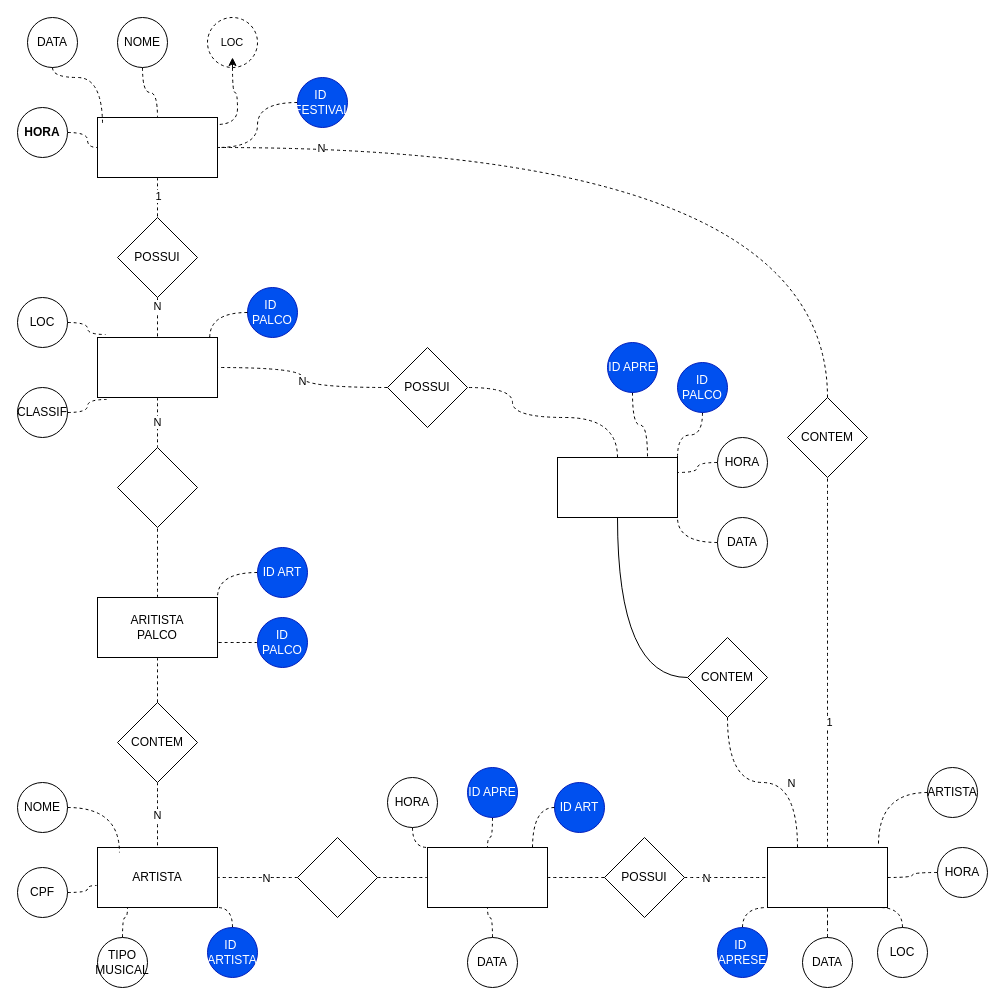
Image size: 1005x1005. Some labels were removed from this diagram. Each missing label, with the centre of its shape:
APRESENTAÇÃO PALCO: (x=617, y=487)
APRESENTAÇÕES: (x=827, y=877)
APRESENTAÇÕES ARTISTAS: (x=487, y=877)
CANTA: (x=157, y=487)
FESTIVAL: (x=157, y=147)
PALCO: (x=157, y=367)
REALIZA: (x=337, y=877)
